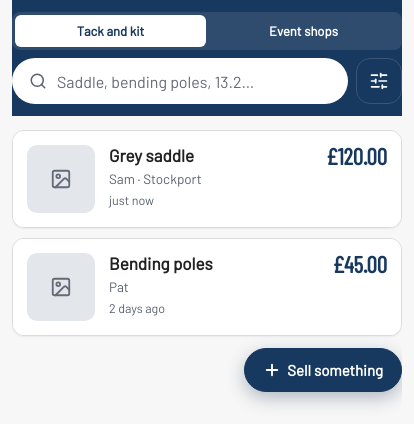
Test: the shop › lists only the events that have something on sale, with a short note when none do
Click the button "Event shops" at (304, 31), box [208,15,399,47]
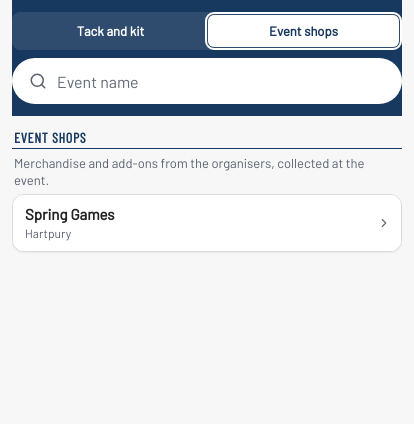
Check: the link "Spring Games Hartpury" is shown, box [13,195,401,251]
